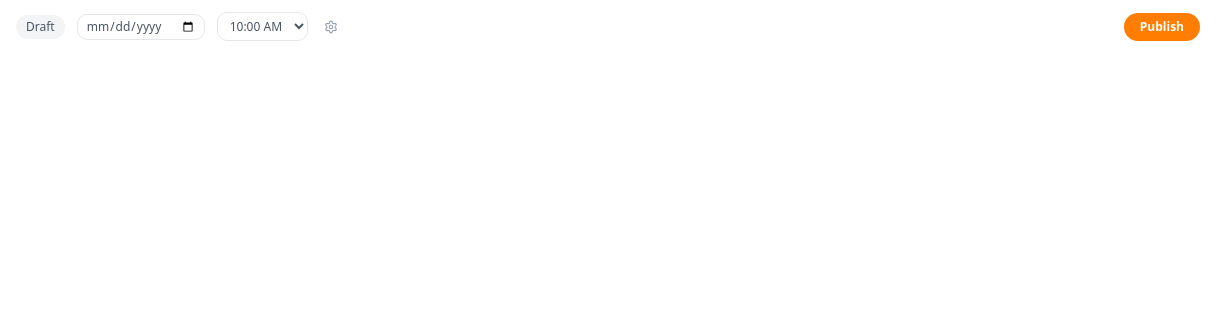
Test: MetadataBar › shows blog metadata fields when gear icon is clicked
The image size is (1217, 324).
What coordinates should you click on to do the following:
click the button named "settings"
I would click on:
 (331, 26)
Its box is [320, 16, 342, 38].
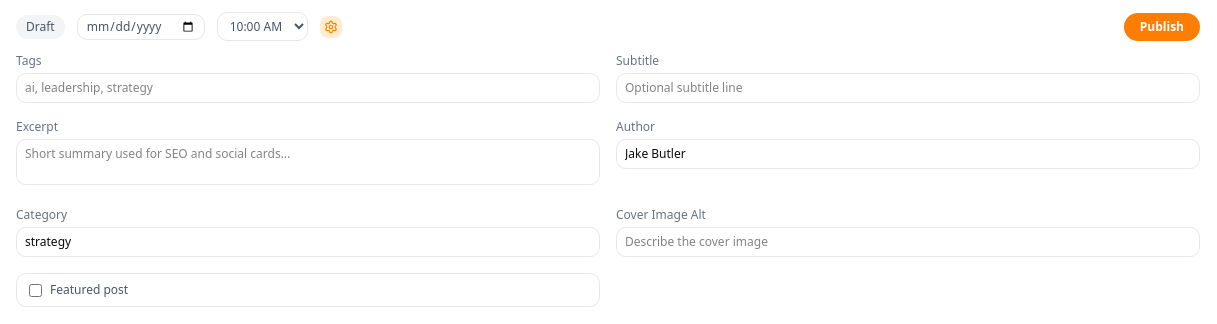
Result: the field labelled "Tags" is shown at [16, 73, 600, 103]
Result: the field labelled "Subtitle" is shown at [616, 73, 1200, 103]
Result: the text box labelled "Excerpt" is shown at [16, 139, 600, 185]
